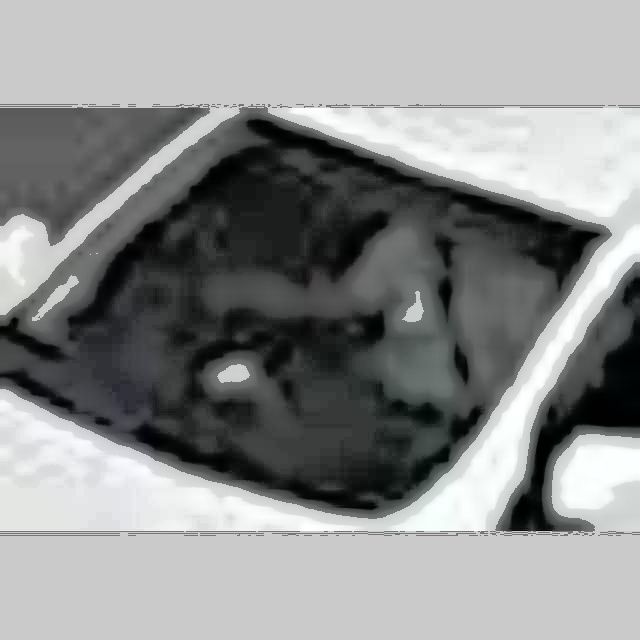pakai: (301, 202, 518, 419)
